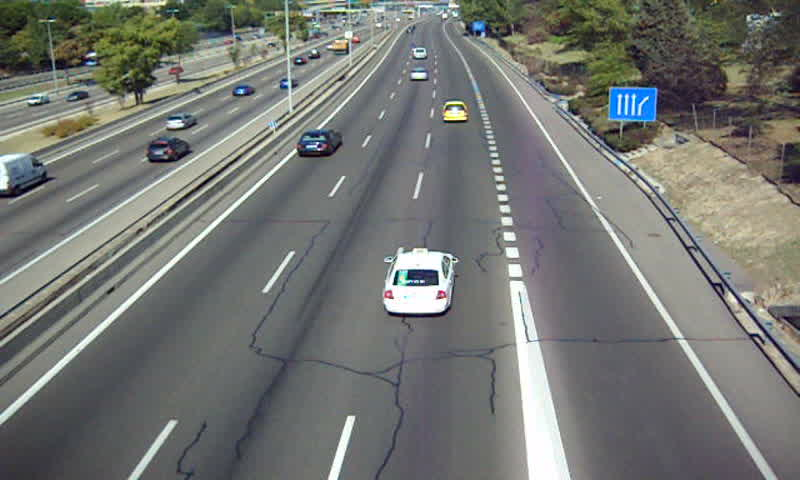car: (383, 248, 456, 314), (297, 131, 340, 156), (442, 101, 468, 125), (410, 66, 428, 80)
